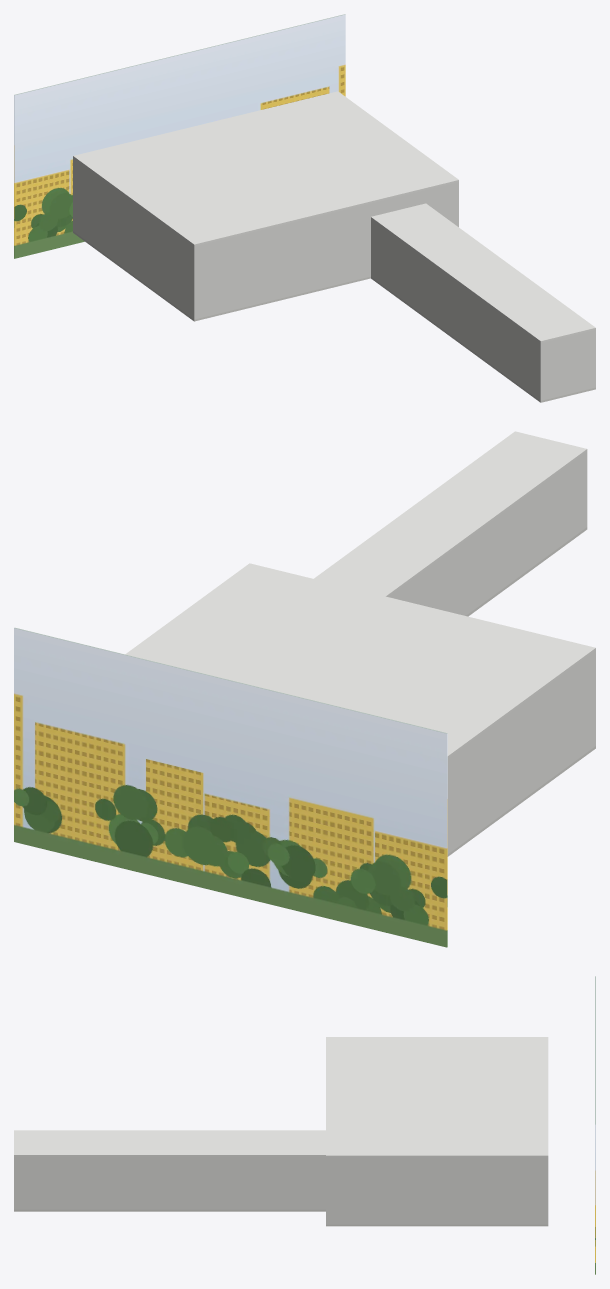
Rendered from lab-room.glb.
3 views of the same model, one above another, from view 1: azimuth 30°, elevation 25°; view 2: azimuth 150°, elevation 25°; view 3: azimuth 270°, elevation 25° (orthographic). The views are drawn at different scales.
Visible parts, largest first — view 1: Shell, Outside; view 2: Outside, Shell; view 3: Shell.
Boxes of the visible parts, x1,y1,x2,y2 form: Shell: (73, 91, 595, 402); Outside: (14, 14, 345, 258); Outside: (14, 627, 447, 947); Shell: (125, 431, 595, 856); Shell: (14, 1037, 548, 1226).
Size of the model in its own units: 18 by 8.5 by 29.85.
32 materials, 1 textured.
